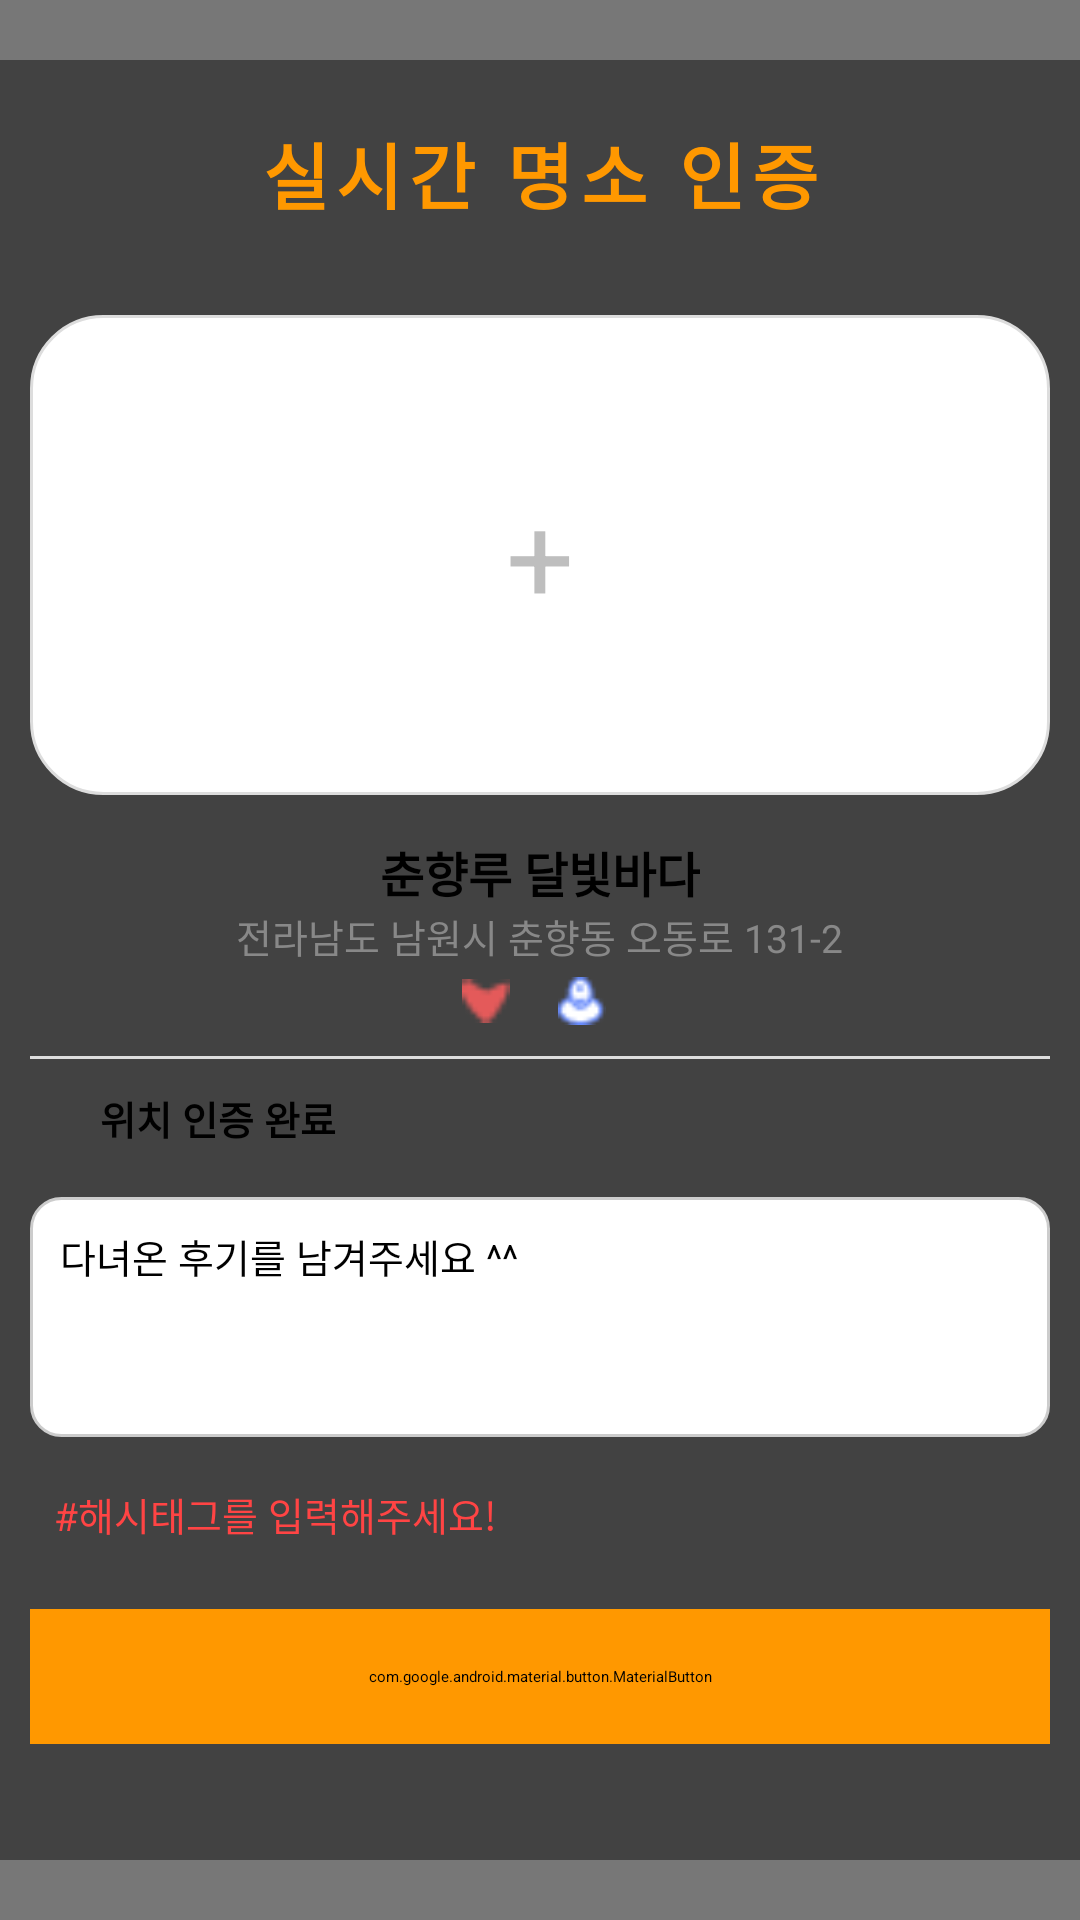

Named icons in this screenshot (1080 x 1920) and their centers, [x,y]:
heart: [486,1001]
people: [581,1001]
